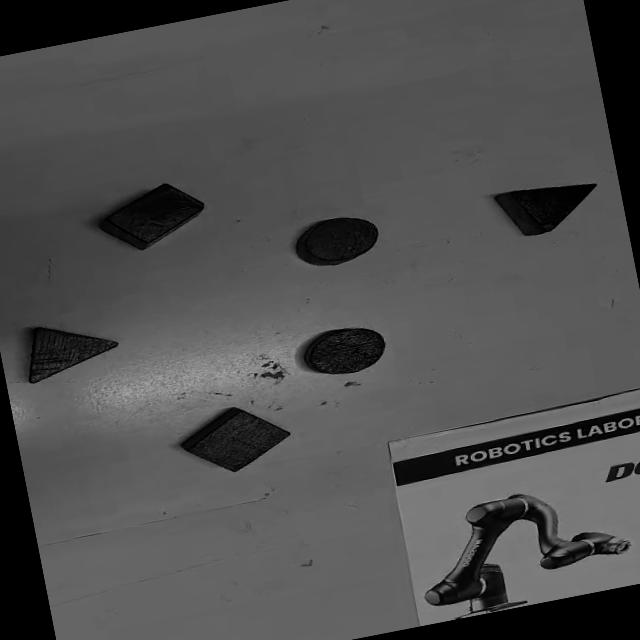bcircle: (298, 321, 390, 382)
bcube: (173, 396, 299, 482)
btriangle: (486, 168, 609, 246), (19, 312, 125, 384)
rcircle: (291, 208, 385, 272)
rcube: (96, 175, 216, 258)
